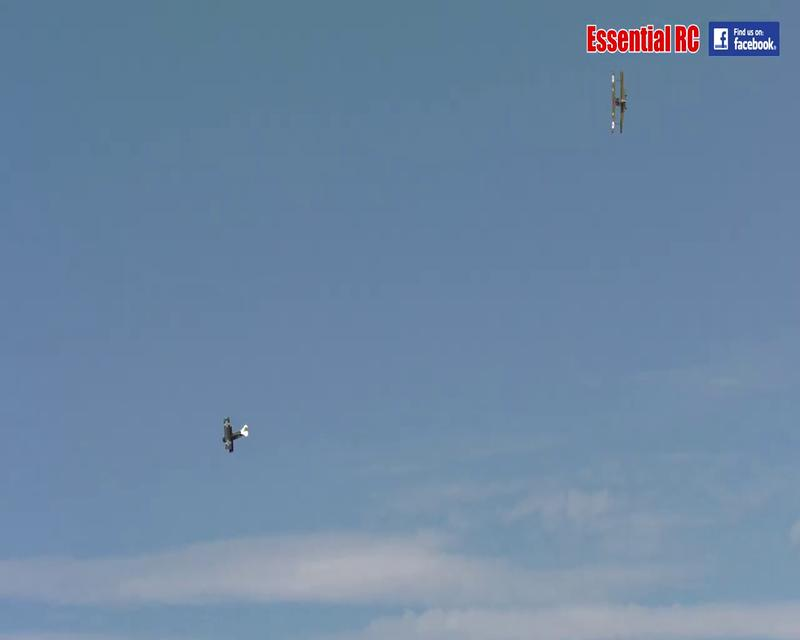UAV: (608, 69, 630, 136), (220, 416, 250, 454)
